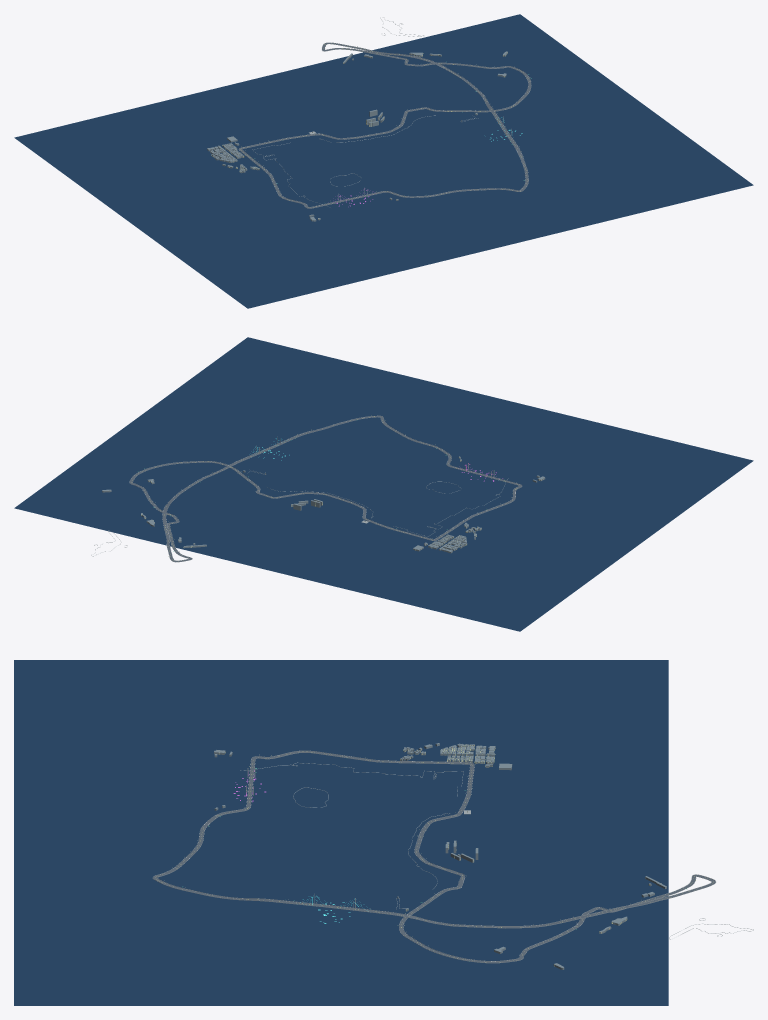
File: yeosu.glb
3 views of the same model, one above another, from view 1: azimuth 30°, elevation 25°; view 2: azimuth 150°, elevation 25°; view 3: azimuth 270°, elevation 25° (orthographic). The views are drawn at different scales.
Parts seen in each view (by area): view 1: Terrain, Road_Asphalt_0; view 2: Terrain, Road_Asphalt_0; view 3: Terrain, Road_Asphalt_0.
Part boxes in pixels (x1,y1,x2,y2): Terrain: (14,14,753,308); Road_Asphalt_0: (239,42,531,208); Terrain: (14,337,753,631); Road_Asphalt_0: (129,416,521,561); Terrain: (14,660,668,1005); Road_Asphalt_0: (153,751,715,962).
Bounding box in the file's own units: 3500 × 77.03 × 3166.
